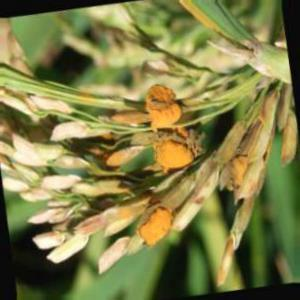Leaf_Scald: (146, 81, 194, 176), (137, 209, 173, 248), (224, 146, 256, 189)
